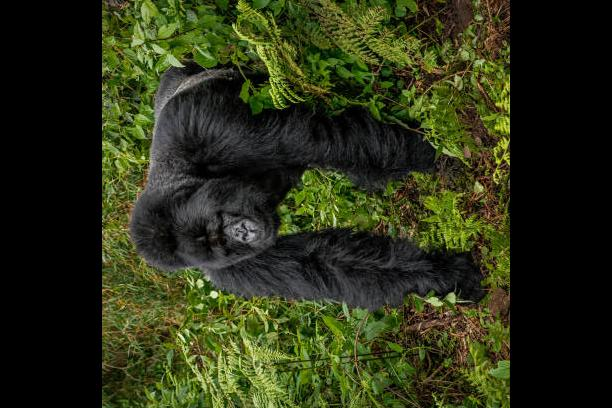goriile_montagne: (119, 67, 471, 309)
